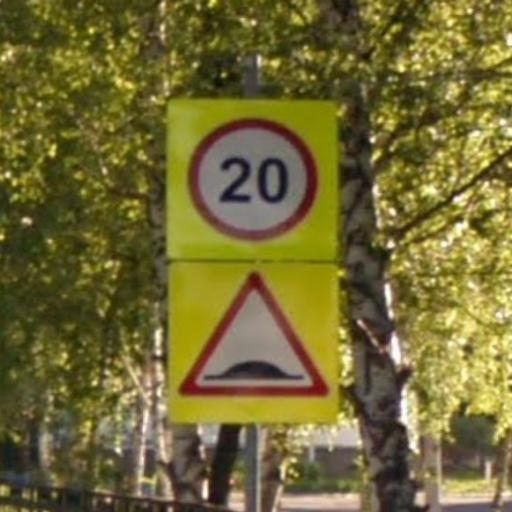traffic_sign: (177, 271, 330, 397), (188, 116, 322, 243)
